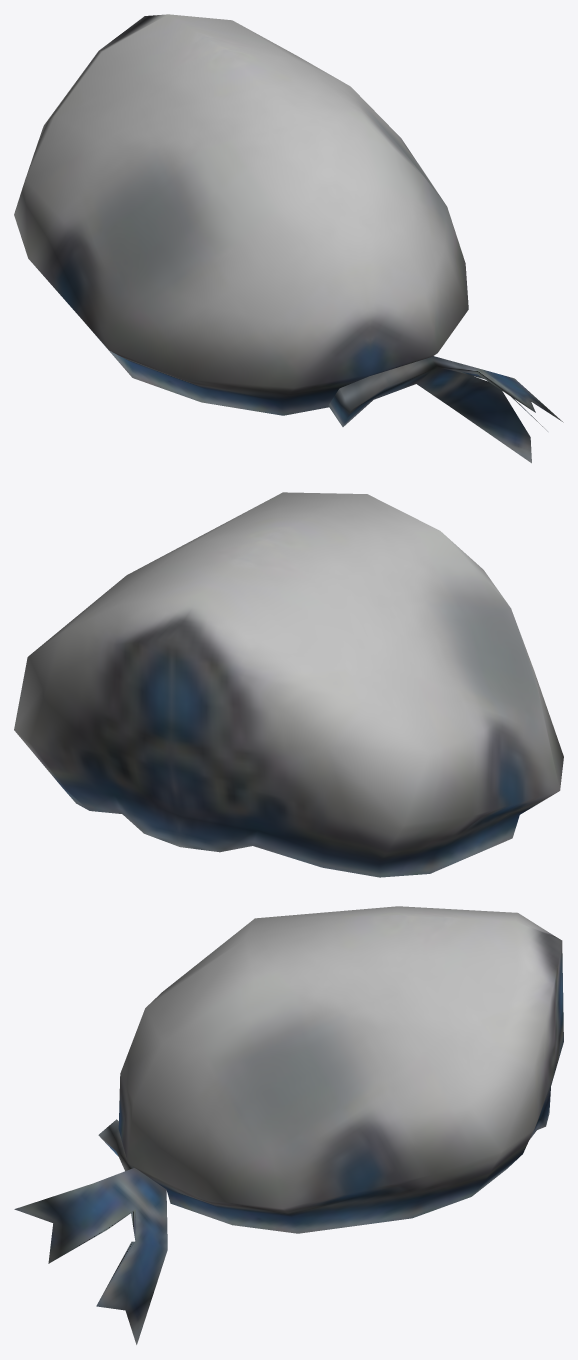
File: pvpHelmet.glb
3 views of the same model, one above another, from view 1: azimuth 30°, elevation 25°; view 2: azimuth 150°, elevation 25°; view 3: azimuth 270°, elevation 25° (orthographic). The views are drawn at different scales.
Visible parts, largest first — view 1: pvpHelmet; view 2: pvpHelmet; view 3: pvpHelmet.
Part boxes in pixels (x1,y1,x2,y2): pvpHelmet: (14, 14, 563, 463); pvpHelmet: (14, 492, 563, 877); pvpHelmet: (14, 906, 563, 1344).
Size of the model in its own units: 0.3197 by 0.2978 by 0.4259.
1 material, 1 textured.
